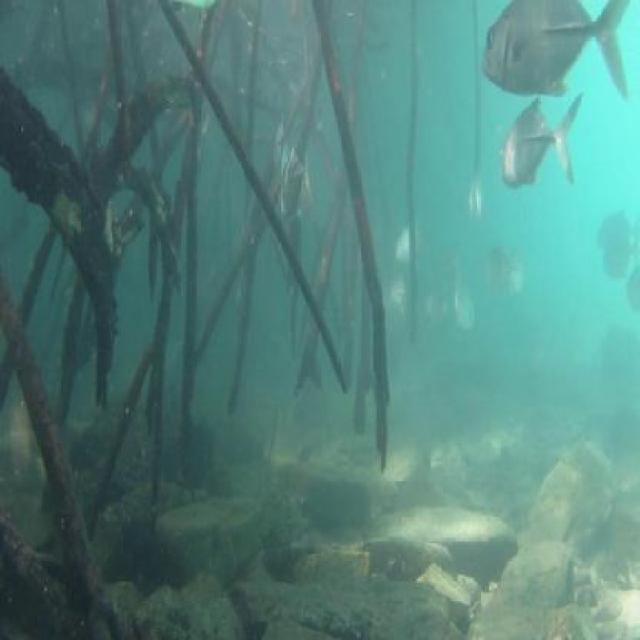Caranx_sexfasciatus_juvenile: (481, 0, 635, 115), (497, 95, 586, 197), (278, 141, 318, 236), (448, 261, 487, 339), (476, 242, 512, 316), (501, 232, 532, 310), (600, 226, 640, 286), (594, 200, 638, 251), (422, 278, 455, 342), (268, 102, 292, 186), (385, 273, 417, 336), (458, 166, 489, 228), (392, 212, 418, 271)
